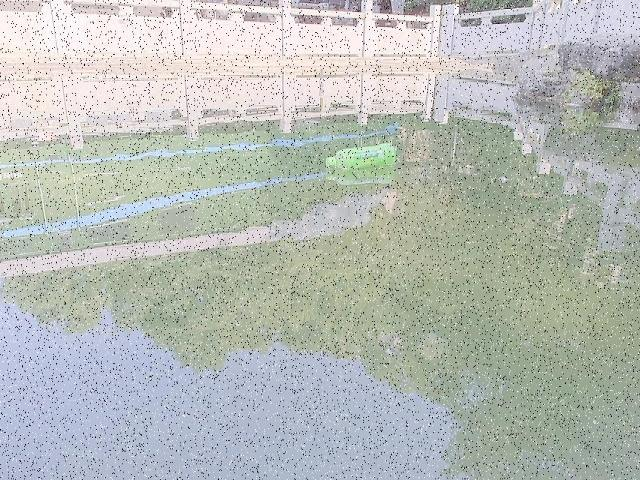Bottle: (318, 136, 408, 174)
